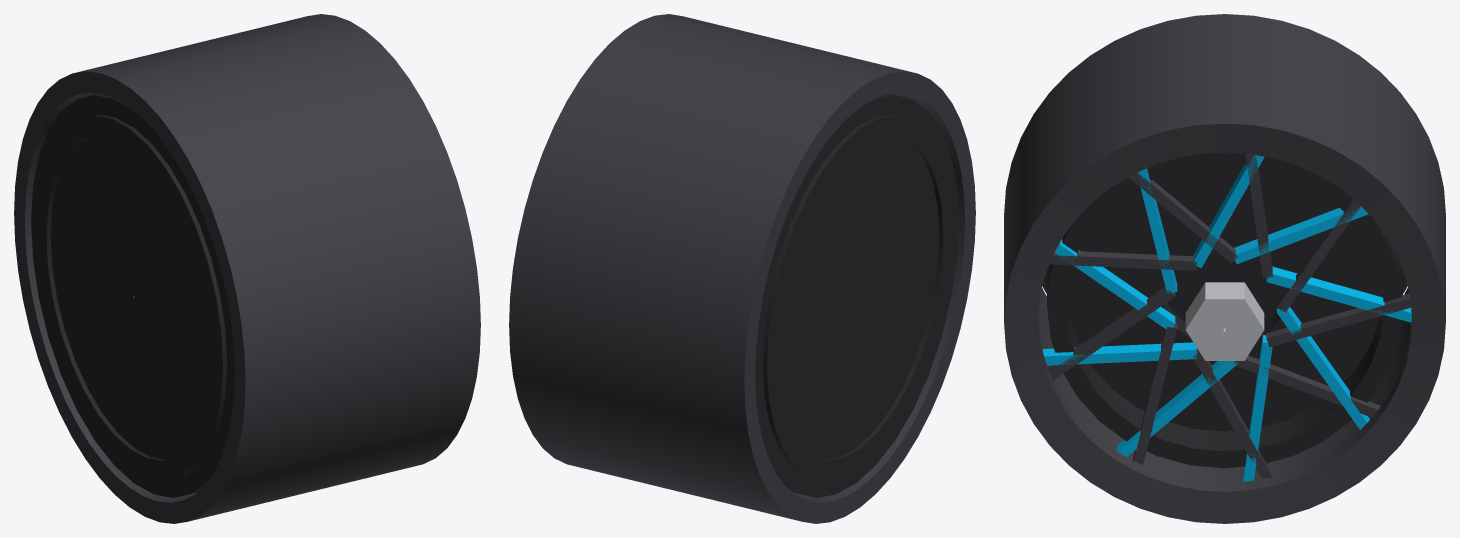
Rendered from mesh_front.glb.
The picture shows the model from 3 angles, left to right: view 1: azimuth 30°, elevation 25°; view 2: azimuth 150°, elevation 25°; view 3: azimuth 270°, elevation 25°; orthographic projection. The views are drawn at different scales.
Parts seen in each view (by area): view 1: Rim_mesh_front; view 2: Rim_mesh_front; view 3: Rim_mesh_front.
Boxes of the visible parts, box(x1,y1,x2,y2) form: Rim_mesh_front: box(14, 14, 480, 523); Rim_mesh_front: box(509, 14, 975, 523); Rim_mesh_front: box(1004, 14, 1445, 523).
Bounding box in the file's own units: 0.293 × 0.472 × 0.472.
